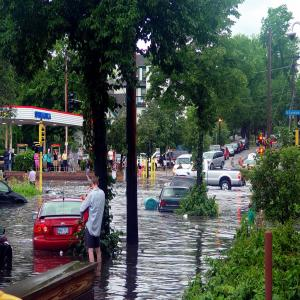Vehicle-registration-plate: (59, 227, 70, 235)
